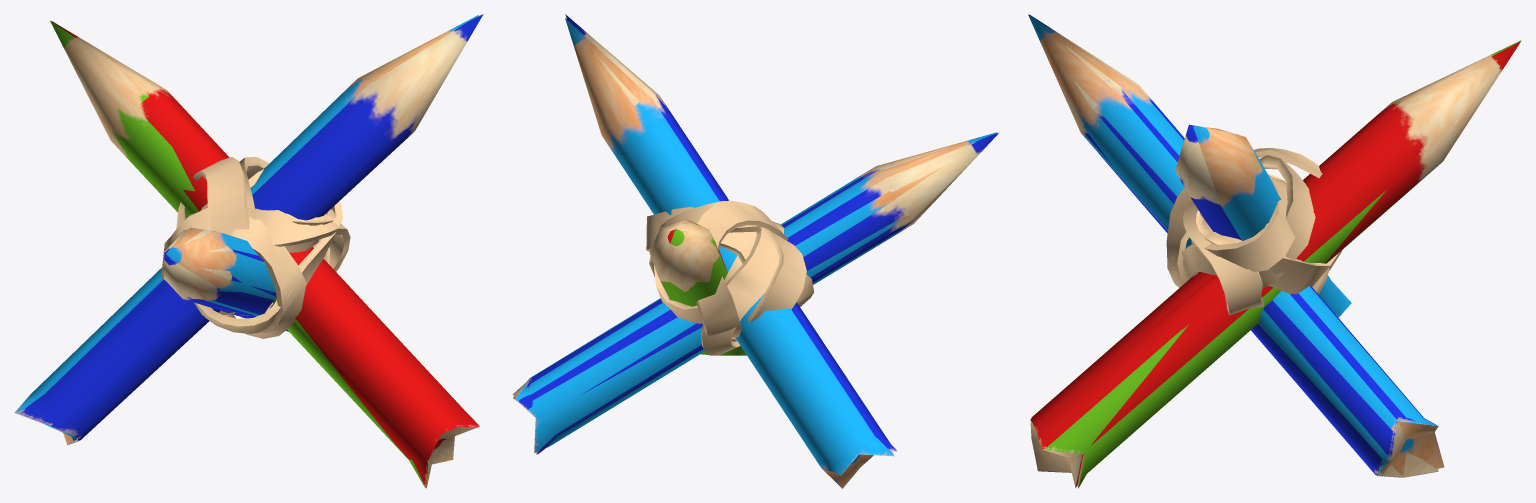
File: PencilHedgehog.fbx
3 renders of one model, left to right at view 1: azimuth 30°, elevation 25°; view 2: azimuth 150°, elevation 25°; view 3: azimuth 270°, elevation 25°, orthographic. The views are drawn at different scales.
Parts seen in each view (by area): view 1: pencilBrokenPiece_01_E_1, pencilBrokenPiece_02_D, pencilBrokenPiece_02_E_1, pencilBrokenPiece_01_C, pencilBrokenPiece_01_D, pencil_01_D, pencil_01_A, pencilBrokenPiece_01_A_1, band_01_low, band_01_low_002__1_, band_01_low__1_, pencilBrokenPiece_01_E (+8 smaller); view 2: pencil_01_A, pencil_01_A_1, pencil_01_E, band_01_low__1_, band_01_low, band_01_low_002__1_, pencil_01_C, pencil_01_E_1, pencilBrokenPiece_01_C, band_01_low_002, pencilBrokenPiece_02_A_1, pencilBrokenPiece_01_E_1 (+4 smaller); view 3: pencil_01_D, pencil_01_A_1, pencil_01_C, pencil_01_E, pencilBrokenPiece_01_D, pencilBrokenPiece_01_A_1, pencil_01_A, pencilBrokenPiece_02_D, band_01_low_002, band_01_low_002__1_, pencilBrokenPiece_02_E, band_01_low_001__1_ (+9 smaller).
Boxes of the visible parts, box(x1,y1,x2,y2) form: pencilBrokenPiece_01_E_1: box(253, 14, 483, 220); pencilBrokenPiece_02_D: box(276, 247, 478, 486); pencilBrokenPiece_02_E_1: box(22, 281, 219, 441); pencilBrokenPiece_01_C: box(50, 21, 198, 219); pencilBrokenPiece_01_D: box(52, 21, 229, 211); pencil_01_D: box(177, 111, 479, 488); pencil_01_A: box(14, 16, 475, 445); pencilBrokenPiece_01_A_1: box(163, 232, 275, 315); band_01_low: box(186, 213, 306, 338); band_01_low_002__1_: box(161, 207, 350, 279); band_01_low__1_: box(176, 157, 249, 314); pencilBrokenPiece_01_E: box(163, 230, 276, 315); pencil_01_A: box(565, 19, 894, 488); pencil_01_A_1: box(513, 133, 995, 453); pencil_01_E: box(512, 133, 997, 454); band_01_low__1_: box(696, 200, 788, 339); band_01_low: box(700, 221, 784, 355); band_01_low_002__1_: box(649, 227, 806, 322); pencil_01_C: box(650, 233, 746, 355); pencil_01_E_1: box(566, 15, 897, 451); pencilBrokenPiece_01_C: box(650, 221, 727, 292); band_01_low_002: box(646, 207, 813, 306); pencilBrokenPiece_02_A_1: box(535, 318, 704, 452); pencilBrokenPiece_01_E_1: box(565, 14, 728, 200); pencil_01_D: box(1030, 43, 1519, 487); pencil_01_A_1: box(1030, 16, 1444, 476); pencil_01_C: box(1044, 42, 1520, 488); pencil_01_E: box(1030, 15, 1438, 477); pencilBrokenPiece_01_D: box(1303, 41, 1520, 212); pencilBrokenPiece_01_A_1: box(1028, 15, 1191, 248); pencil_01_A: box(1195, 126, 1351, 317); pencilBrokenPiece_02_D: box(1031, 272, 1223, 447); band_01_low_002: box(1171, 175, 1295, 281); band_01_low_002__1_: box(1183, 201, 1263, 315); pencilBrokenPiece_02_E: box(1251, 307, 1393, 475); band_01_low_001__1_: box(1191, 155, 1315, 289).
Size of the model in its own units: 593 by 536 by 581.
